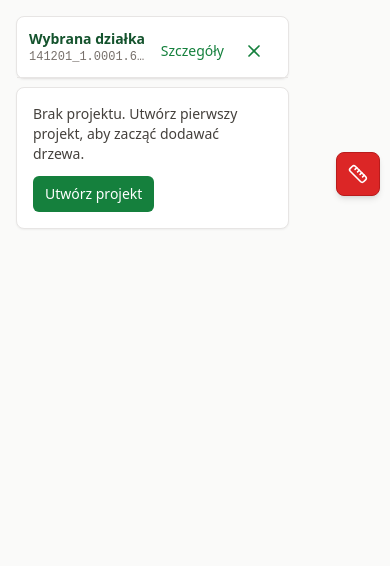
Test: MapPage › should collapse parcel card details by default and expand on toggle
What coordinates should you click on to do the following:
click the button with test id "parcel-card-toggle"
I would click on:
 (192, 51)
Its box is [153,29,232,73].
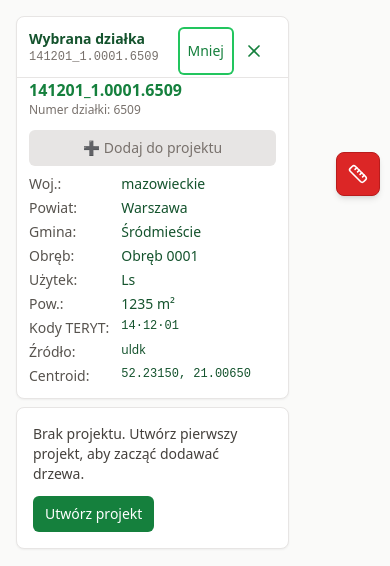
Now the button with test id "parcel-card-toggle" is expanded, box [180,29,232,73]
